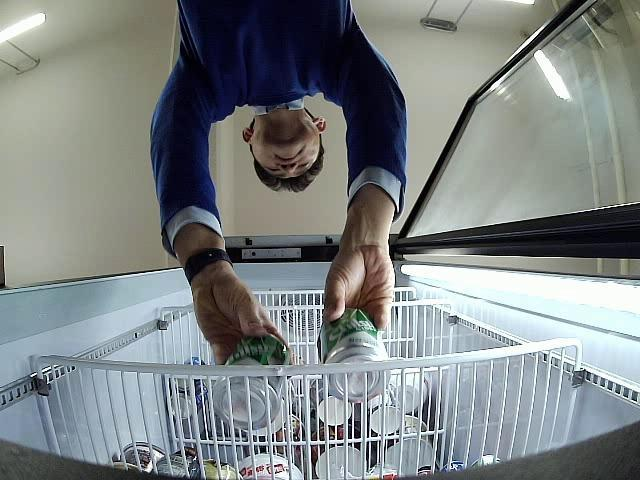12_chilsungCider: (212, 332, 291, 432), (320, 308, 390, 404)
